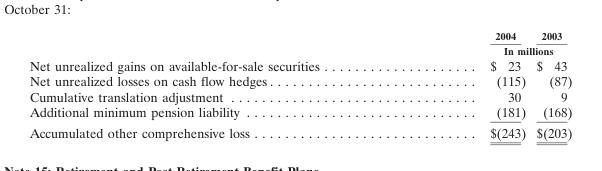table: (28, 28, 571, 140)
table column: (28, 28, 404, 140), (404, 28, 530, 140), (530, 28, 571, 140)
table column header: (28, 28, 571, 57)
table row: (28, 103, 571, 122), (28, 122, 571, 140), (28, 72, 571, 88), (28, 42, 571, 57), (28, 57, 571, 72), (28, 88, 571, 103), (28, 28, 571, 42)
table spanning cell: (404, 42, 571, 57)
